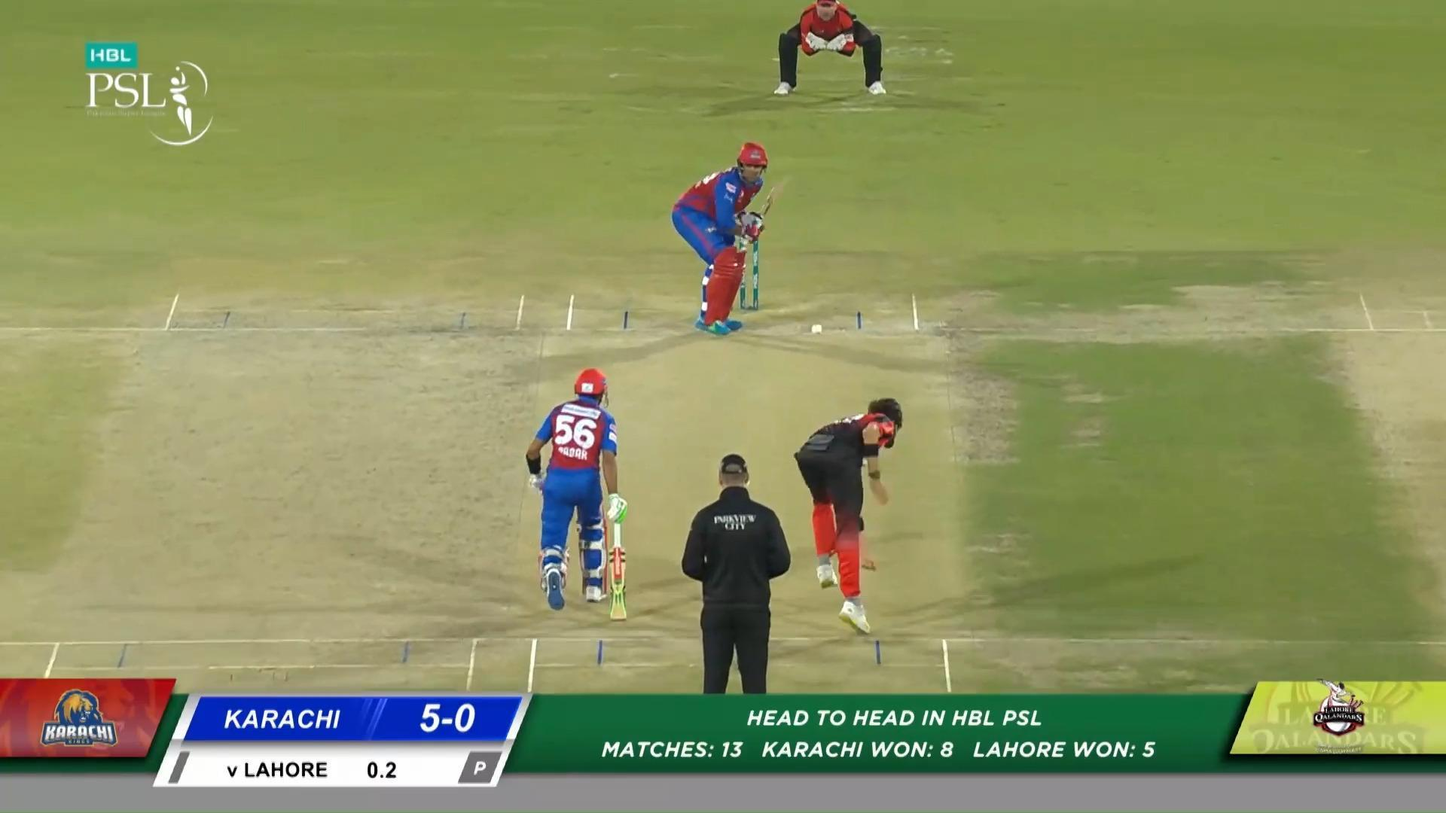BM 1: (671, 140, 795, 335)
BO: (792, 396, 904, 636)
